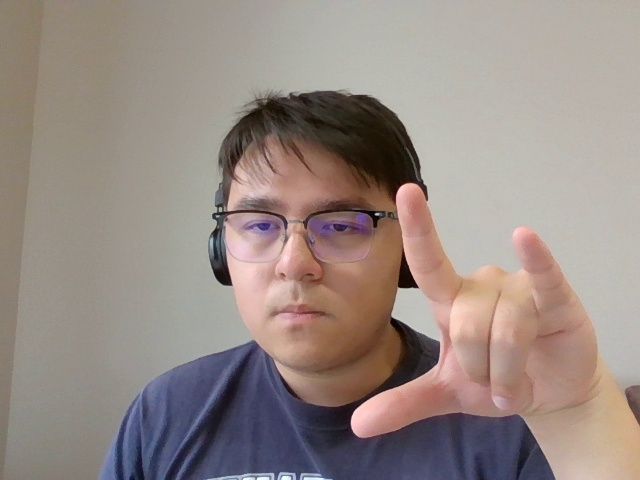ILoveYou: (320, 172, 624, 454)
